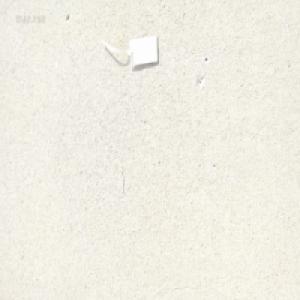LuggageTag: (99, 29, 161, 67)
